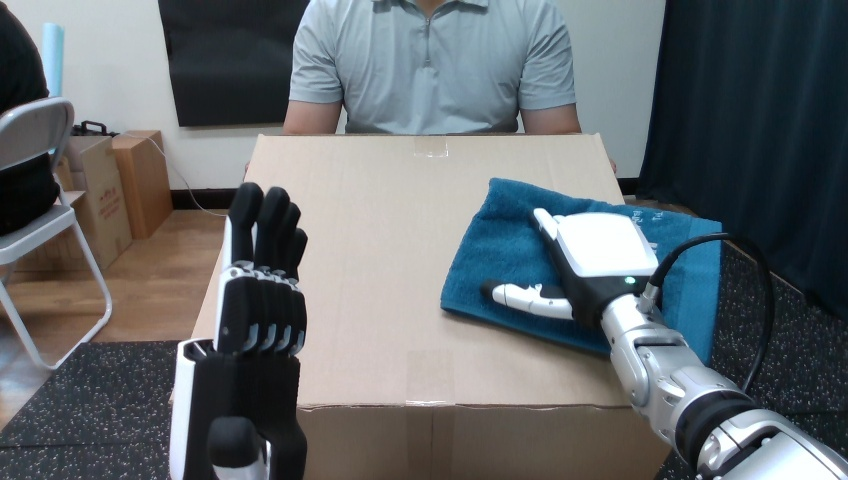left robot hand: (481, 207, 847, 479), (169, 182, 306, 479), (656, 238, 765, 388)
